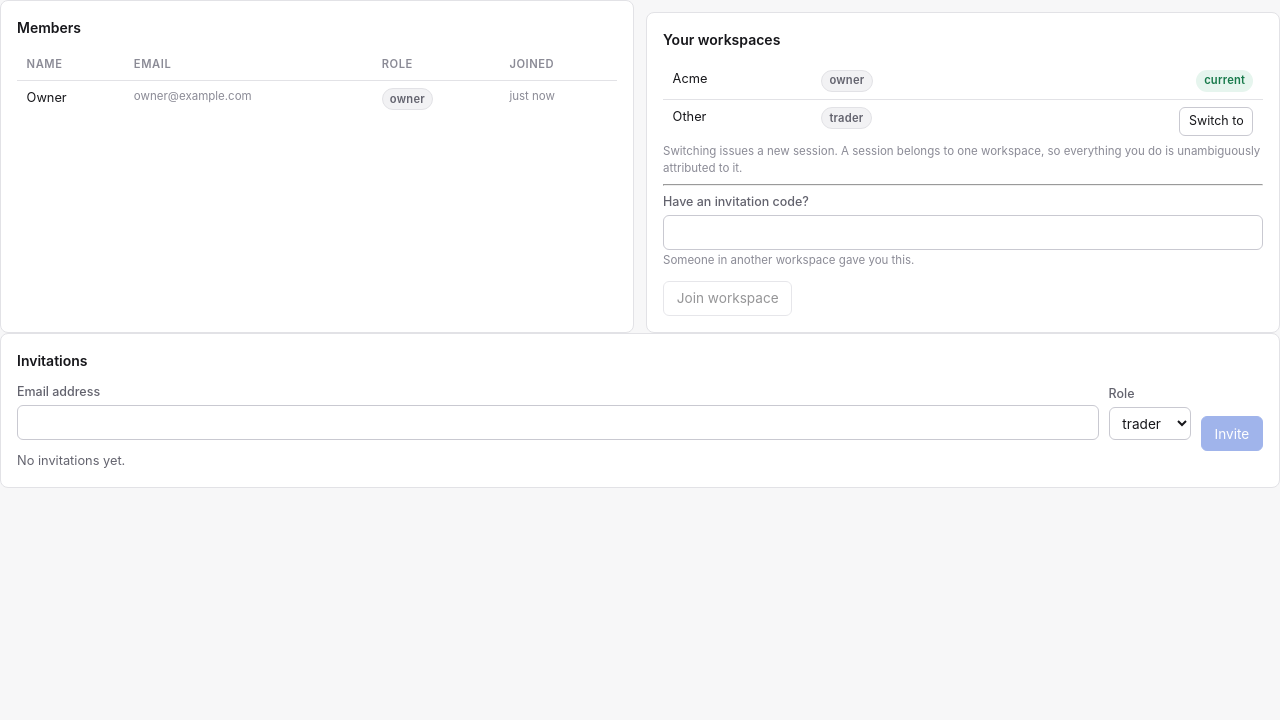
the workspace screen › shows the invitation token once, with instructions to pass it on
Type "new@example.com" into the field labelled "Email address" at x=558, y=423, box [17, 405, 1099, 440]
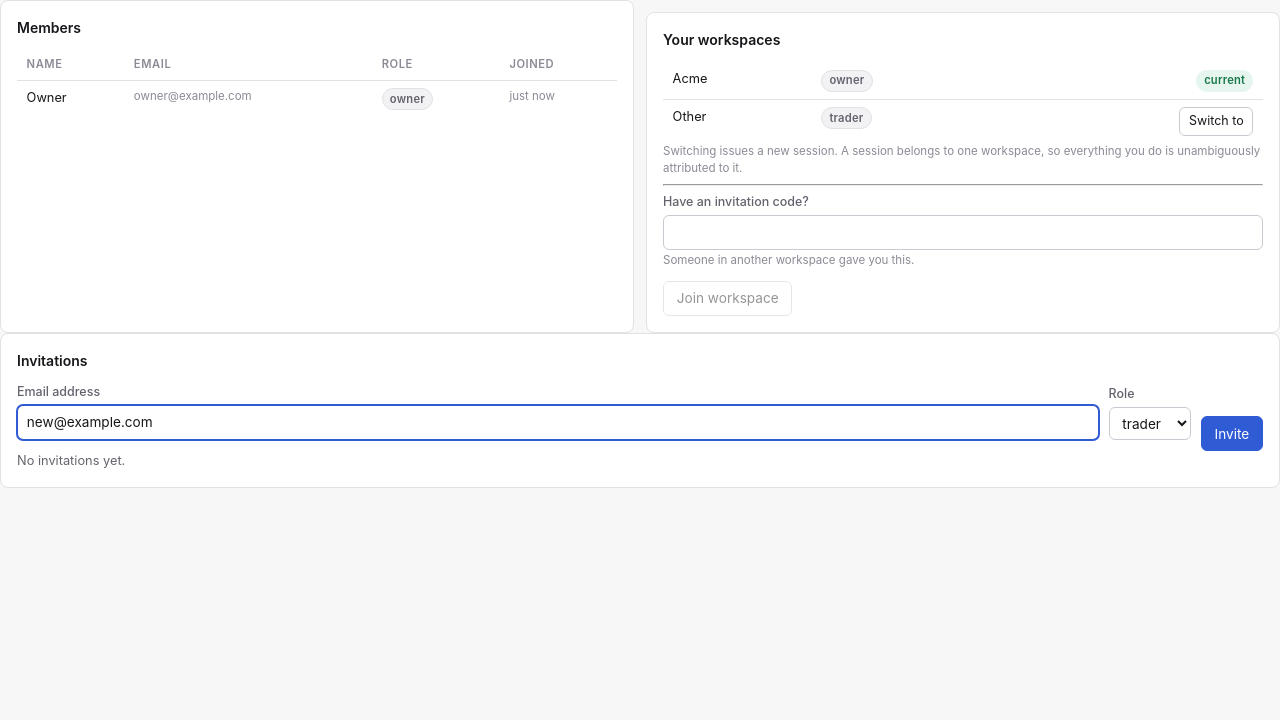
Click the button "Invite" at x=1232, y=434, box [1201, 416, 1263, 451]
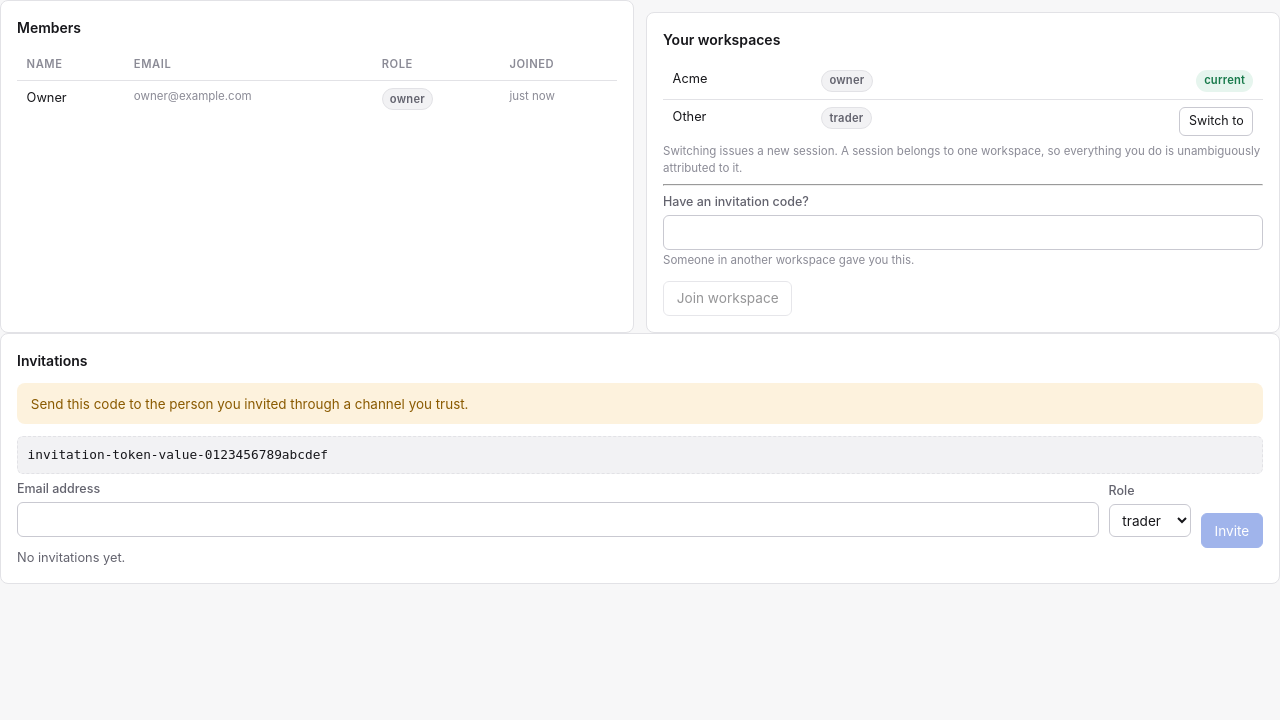
Result: the text with test id "invitation-token" reads "invitation-token-value-0123456789abcdef" at [28, 447, 328, 462]
Result: the text "channel you trust" is shown at [31, 396, 468, 412]
